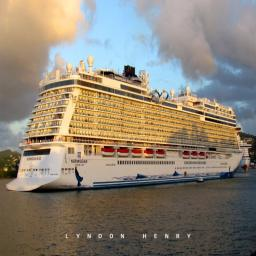cruises: (6, 52, 247, 196)
